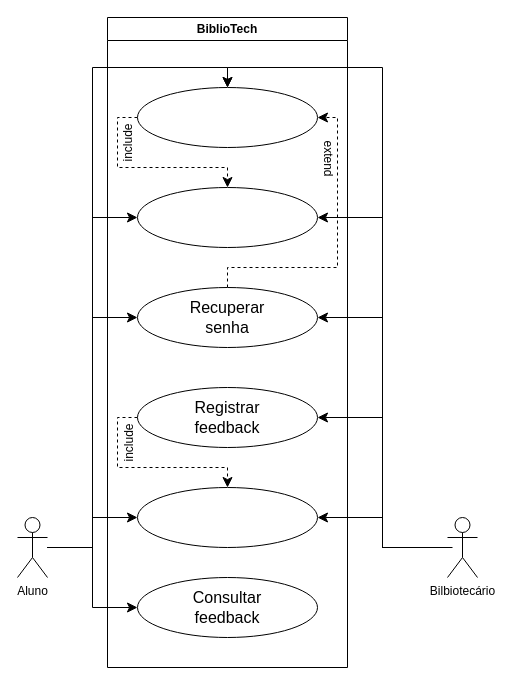
Some shapes in this 512 by 685 pixel diagram are drawn without their labels. The shapes that lost their labels are listed below. From the top down, each one's centre as x and y in pixels, then its label:
pixel 227 117: Identificar usuário
pixel 227 217: Validar matrícula
pixel 227 517: Consultar empréstimo
